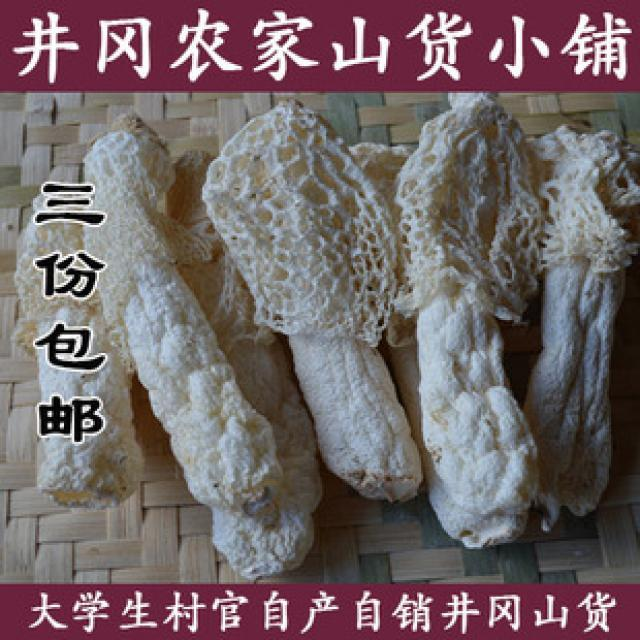Dictyophora indusiate: (341, 91, 540, 551), (199, 103, 423, 497), (86, 141, 279, 504), (509, 126, 640, 523), (20, 167, 132, 500)
